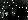person: (5, 10, 10, 19)
